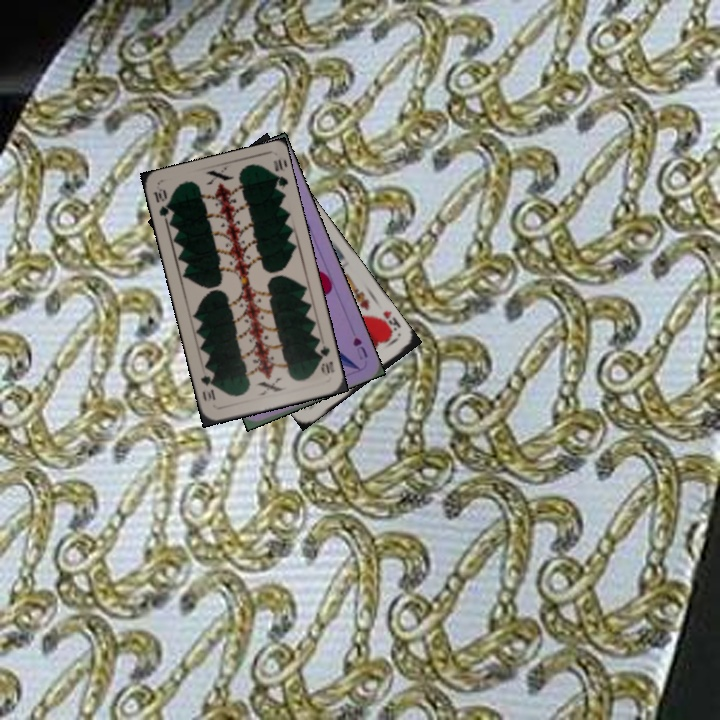G10: (149, 184, 175, 225), (313, 341, 337, 379)
HK: (372, 307, 403, 338)
HU: (349, 333, 370, 362)
